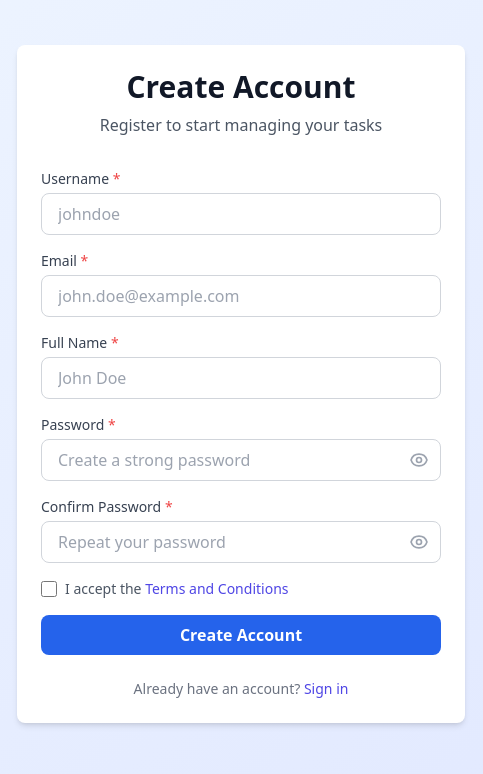
Test case: RegisterView › should show validation error when passwords do not match
In the password field labelled "Password *": (241, 460) [41,439,441,481], type "ValidPass123!"
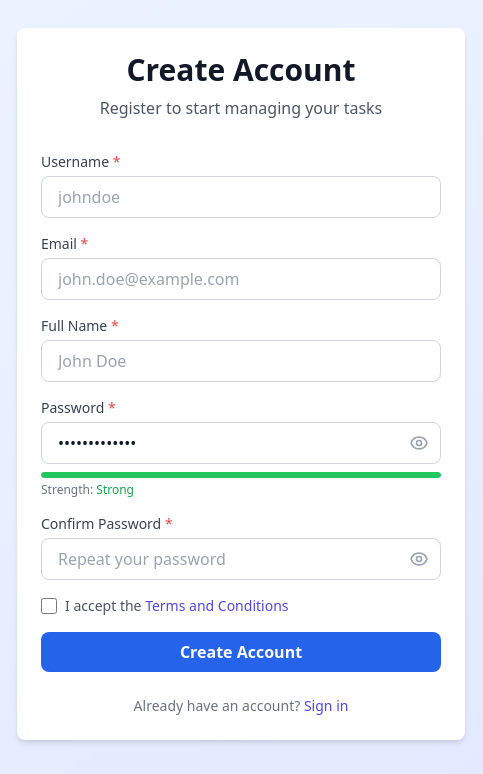
In the password field with id "confirmPassword": (241, 559) [41,538,441,580], type "DifferentPass123!"
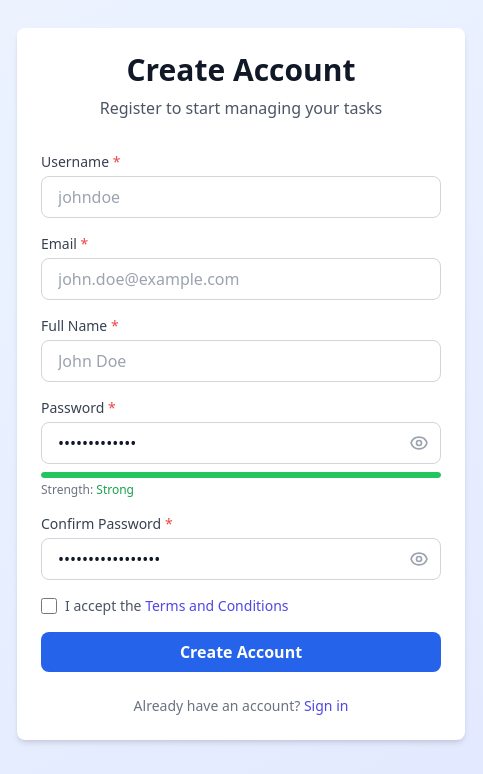
Leave the password field with id "confirmPassword", box [41,538,441,580]
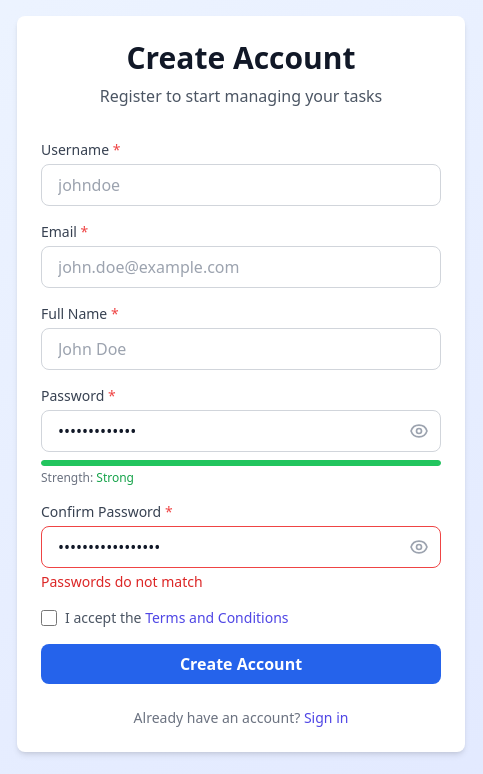
Now the text "Passwords do not match" is shown, box [41,572,203,591]
